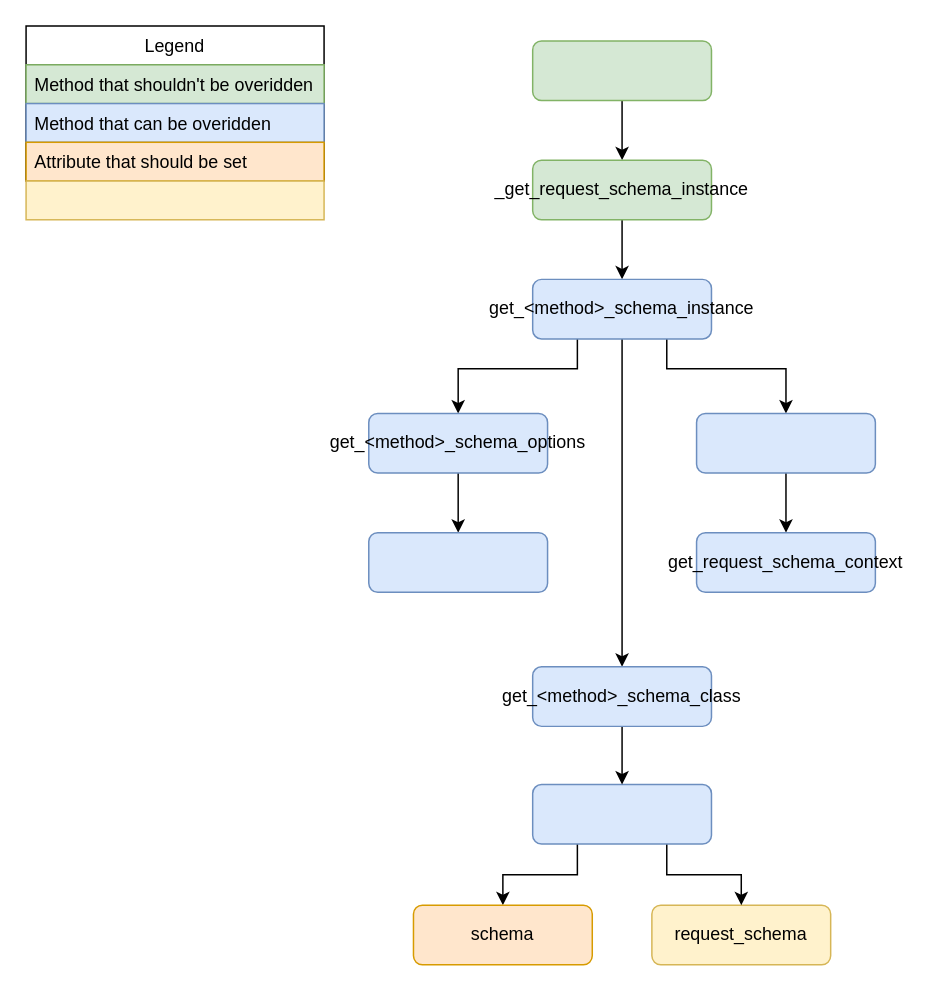
The diagram is 939 pixels wide and 991 high, and some of its shapes have lost their labels. Here are the shapes that lost their labels. From the top down, the centre of each, then its label:
At pixel 621 70: "get_validated_data".
At pixel 174 200: "Attribute that can be set".
At pixel 785 442: "get_<method>_schema_context".
At pixel 457 561: "get_request_schema_options".
At pixel 621 813: "get_request_schema_class".
